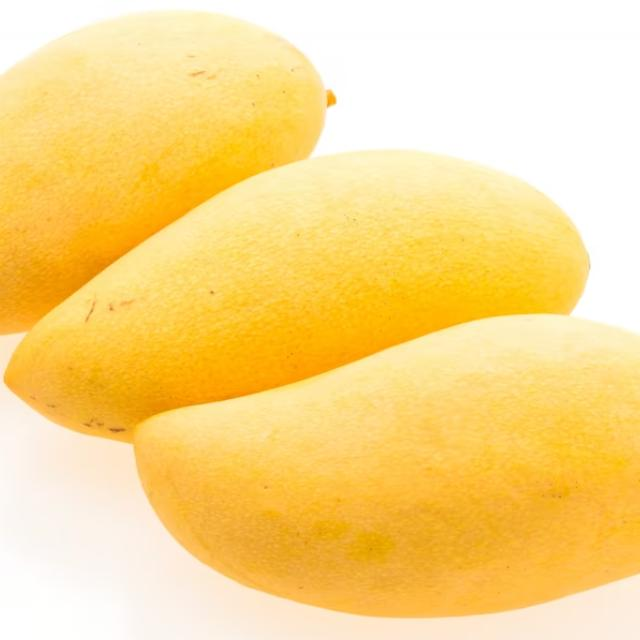mango: (0, 141, 587, 457), (137, 310, 640, 613), (0, 1, 332, 338)
